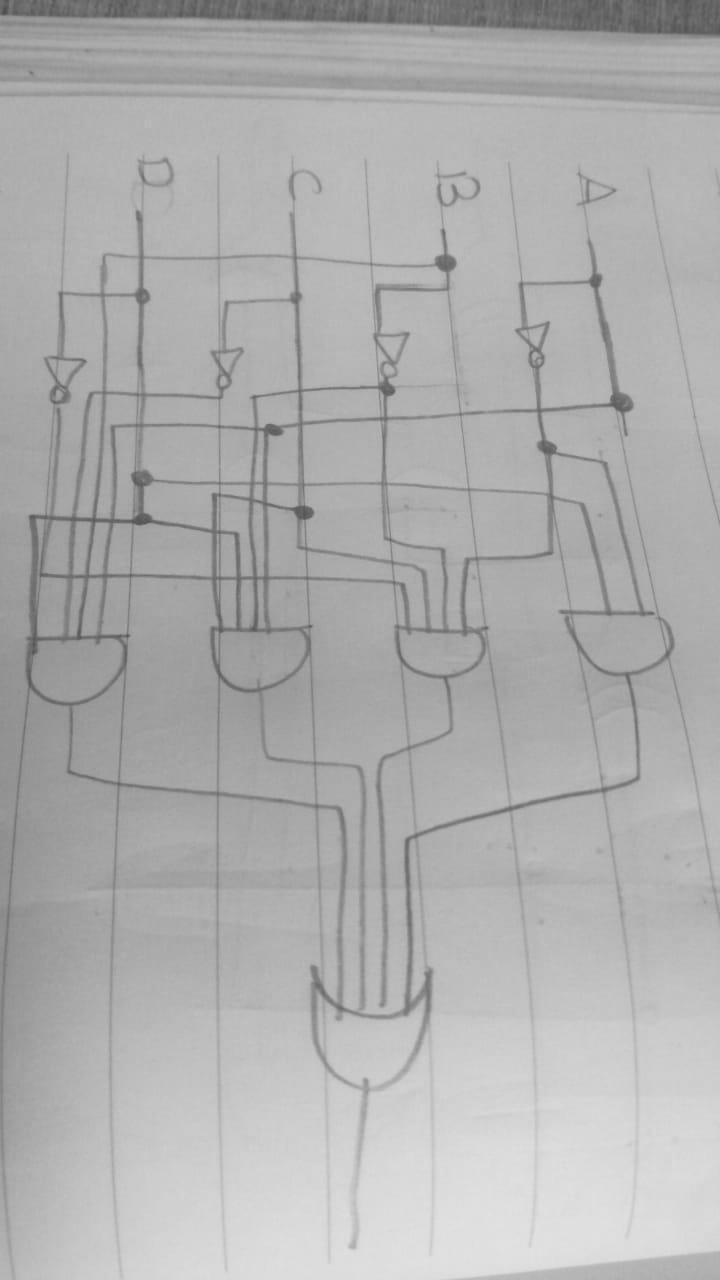AND: (5, 610, 145, 724), (547, 593, 691, 691), (187, 602, 320, 696), (380, 610, 505, 693)
NOT: (365, 320, 431, 390), (505, 312, 574, 374), (38, 335, 90, 408), (200, 340, 249, 394)
OR: (285, 950, 467, 1112)
